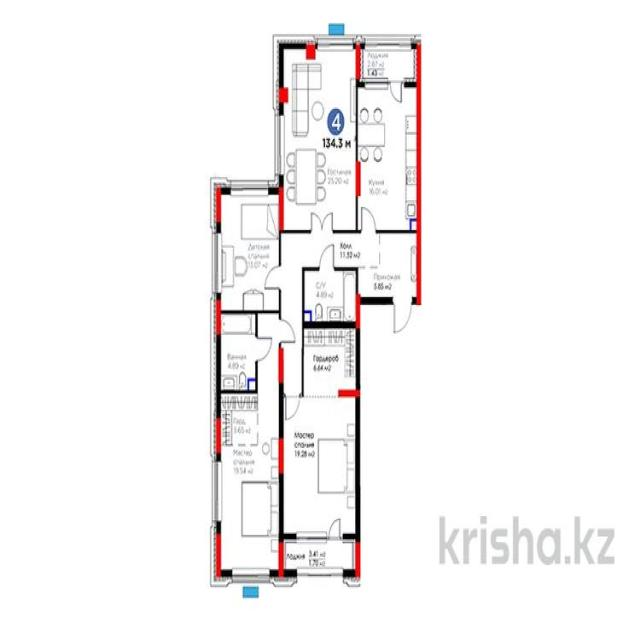balcony: (283, 539, 356, 571), (362, 44, 416, 83)
bathroom: (220, 312, 256, 390), (306, 272, 357, 323)
hallway: (360, 233, 417, 298), (282, 235, 358, 268)
kitchen: (359, 86, 418, 228)
living_room: (281, 46, 356, 230), (219, 393, 280, 569), (282, 397, 356, 533), (219, 189, 280, 311)
other: (304, 328, 356, 392)
